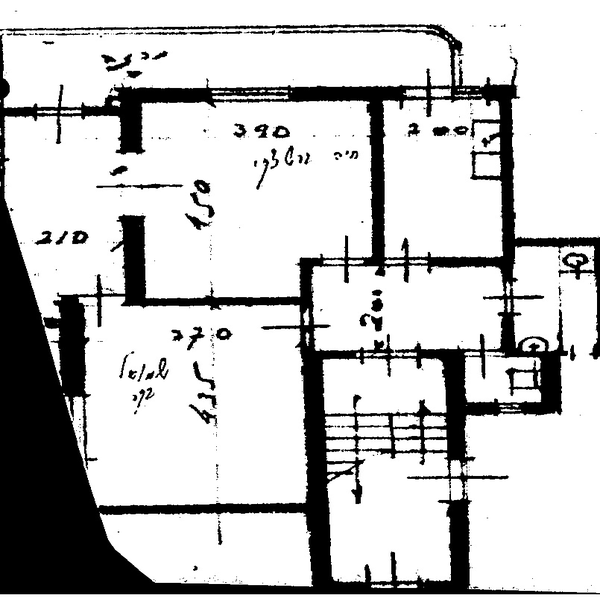room: (102, 75, 397, 310), (295, 349, 486, 594), (291, 244, 522, 364)
wall: (299, 355, 340, 589), (436, 347, 477, 462), (366, 101, 394, 264), (497, 84, 520, 266), (123, 210, 153, 315), (446, 503, 473, 592), (143, 293, 304, 307), (108, 83, 203, 106), (289, 86, 406, 103), (539, 354, 568, 418)
window: (211, 83, 290, 110)
